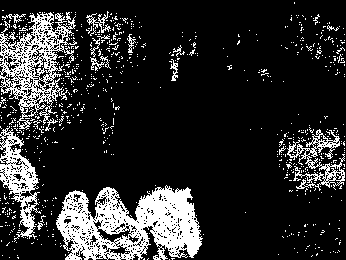person: (1, 135, 43, 238), (94, 185, 148, 260), (54, 189, 94, 260)
